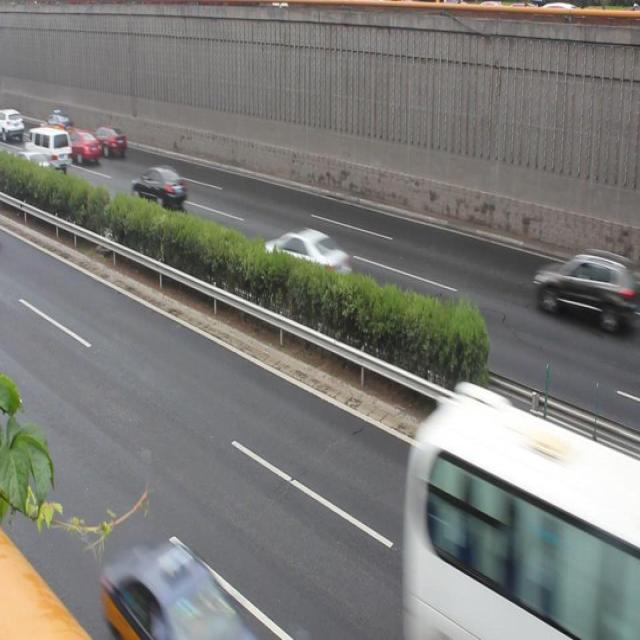car: (98, 539, 257, 640), (532, 247, 633, 334), (260, 221, 356, 293), (130, 159, 186, 213), (16, 147, 54, 186), (94, 121, 128, 156), (65, 128, 98, 164)
truck: (29, 123, 72, 171)
van: (403, 391, 640, 640)
